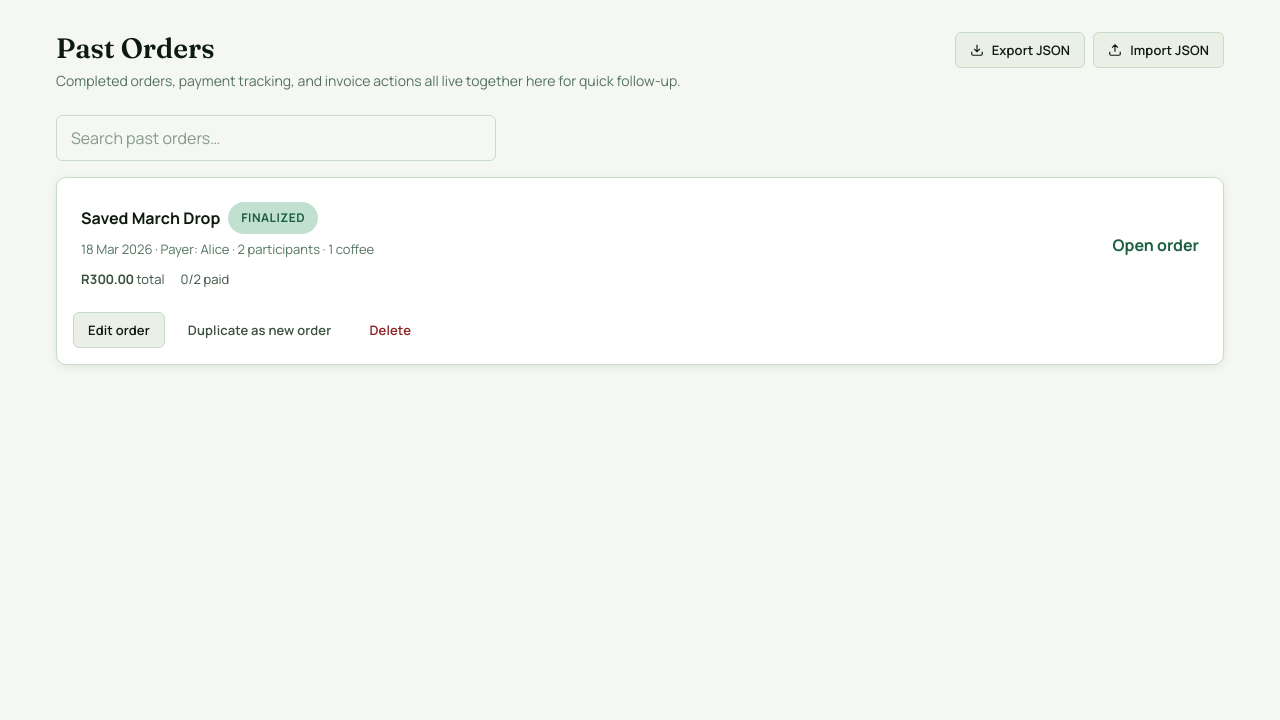
HistoryPage › edits the same saved past order in place without moving it back to active orders
Click the button "Edit order" at (119, 330), box [73,312,165,348]
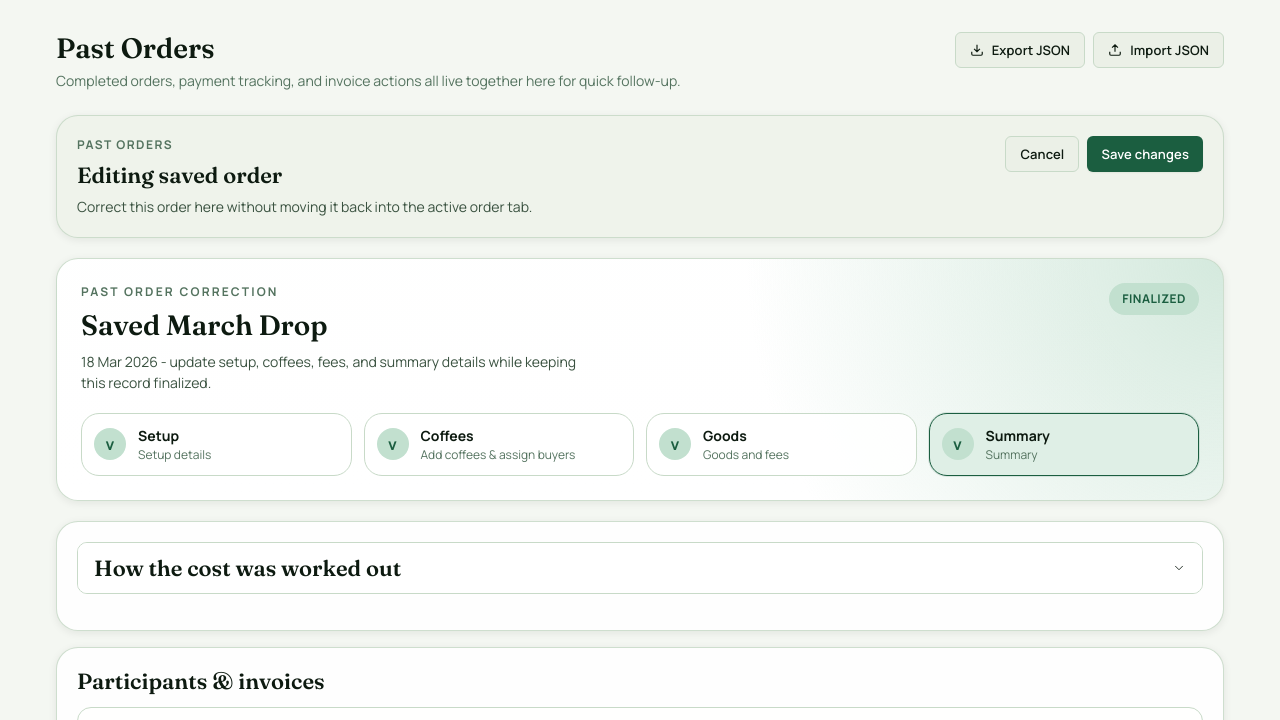
Check: the text "Editing saved order" is shown, box [77,161,282,189]
